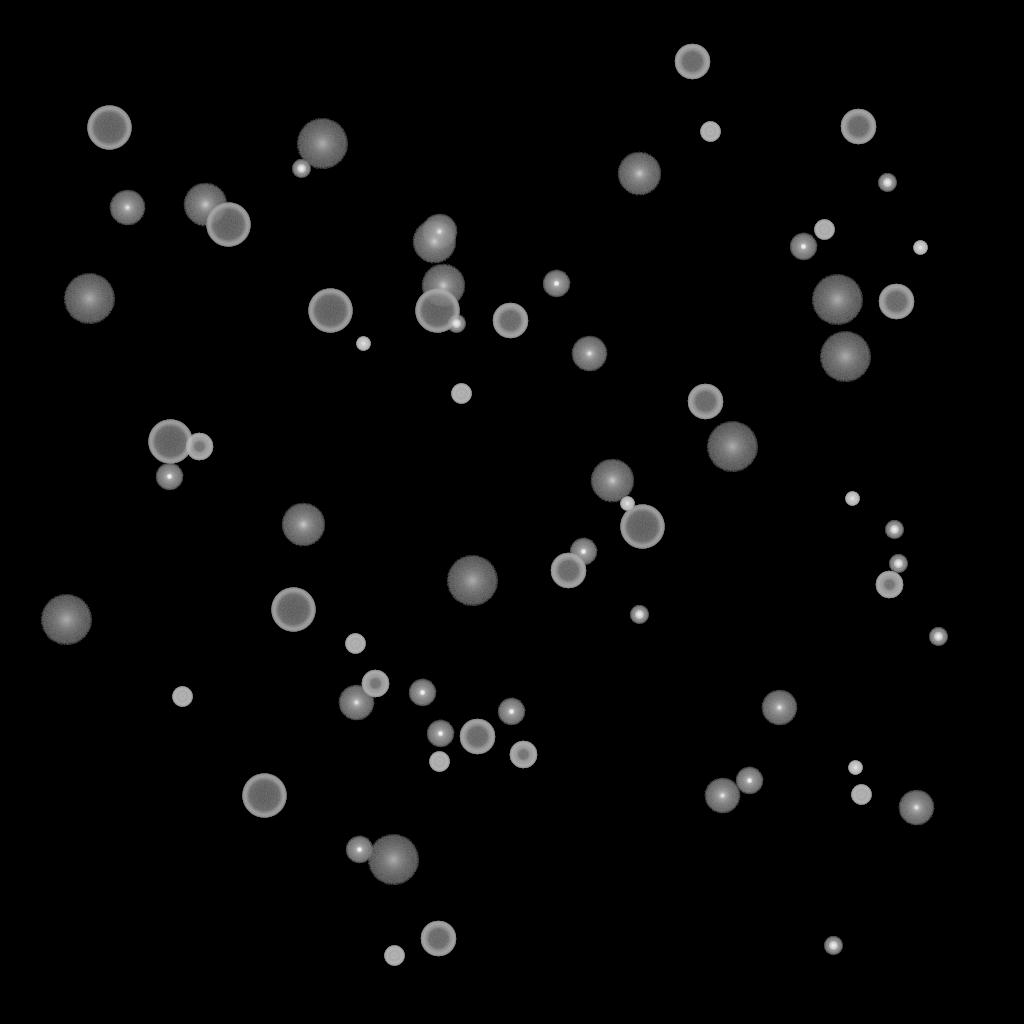depth:-10: (497, 698, 525, 726), (426, 720, 454, 748), (735, 767, 763, 795), (408, 679, 436, 707), (789, 233, 817, 261), (155, 463, 183, 491), (542, 270, 570, 298), (569, 538, 597, 566), (345, 836, 373, 864)
depth:-20: (292, 160, 310, 178), (929, 628, 947, 646), (889, 555, 907, 573), (447, 315, 465, 333), (630, 606, 648, 624), (885, 521, 903, 539), (824, 937, 842, 955), (878, 174, 896, 192)
depth:-30: (845, 492, 859, 506), (913, 241, 927, 255), (356, 337, 370, 351), (848, 761, 862, 775), (620, 497, 634, 511)
depth:-40: (700, 122, 720, 142), (814, 220, 834, 240), (851, 785, 871, 805), (345, 634, 365, 654), (172, 687, 192, 707), (384, 946, 404, 966), (451, 384, 471, 404), (429, 752, 449, 772)
depth:-50: (509, 741, 537, 769), (361, 670, 389, 698), (185, 433, 213, 461), (875, 571, 903, 599)
depth:-60: (550, 553, 586, 589), (459, 719, 495, 755), (840, 109, 876, 145), (674, 44, 710, 80), (492, 303, 528, 339), (687, 384, 723, 420), (420, 921, 456, 957), (878, 284, 914, 320)
depth:-70: (415, 289, 459, 333), (271, 588, 315, 632), (148, 420, 192, 464), (620, 505, 664, 549), (308, 289, 352, 333), (242, 774, 286, 818), (206, 203, 250, 247), (87, 106, 131, 150)
depth:0: (109, 190, 145, 226), (421, 214, 457, 250), (338, 685, 374, 721), (898, 790, 934, 826), (571, 336, 607, 372), (704, 778, 740, 814), (761, 690, 797, 726)
depth:10: (183, 183, 227, 227), (590, 459, 634, 503), (617, 152, 661, 196), (421, 264, 465, 308), (412, 220, 456, 264), (281, 503, 325, 547)
depth:20: (706, 422, 758, 472), (819, 332, 871, 382), (446, 556, 498, 606), (811, 275, 863, 325), (296, 119, 348, 169), (40, 595, 92, 645), (63, 274, 115, 324), (367, 835, 419, 885)
